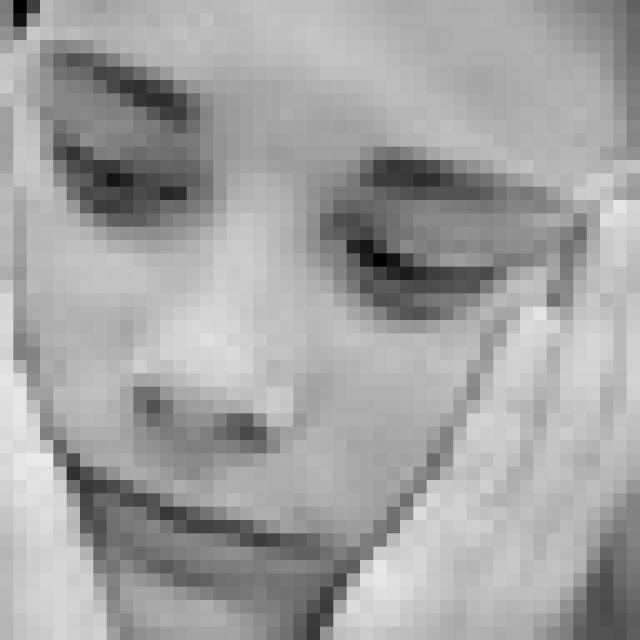sad: (42, 39, 564, 610)
